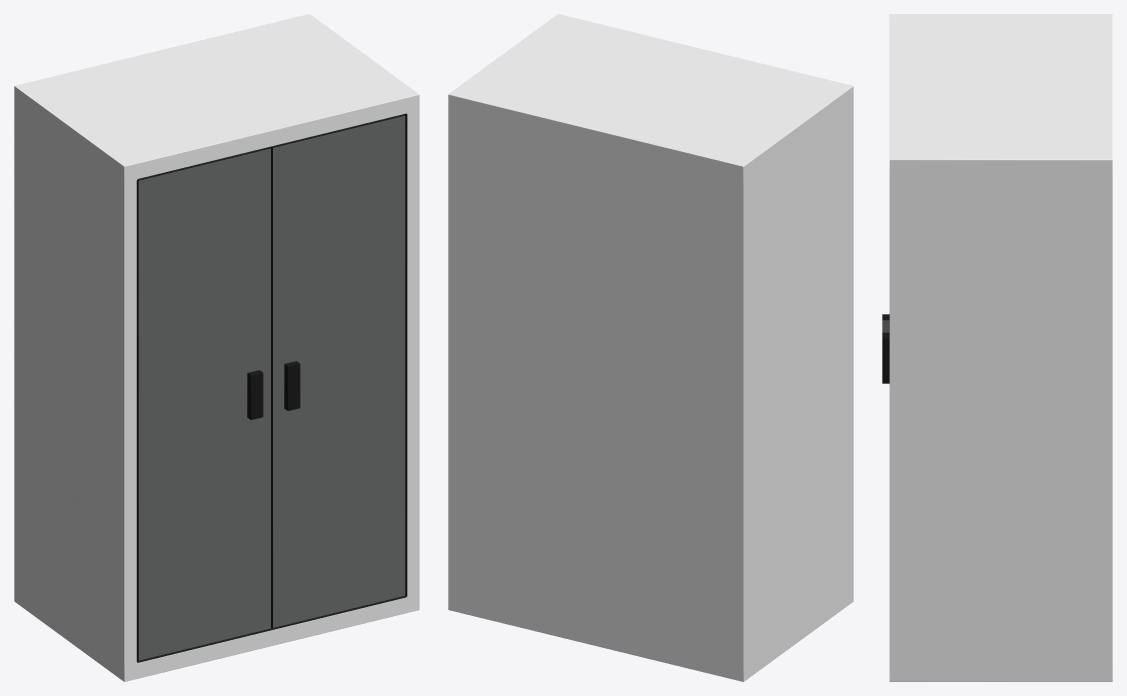
File: StorageCabinet.fbx
3 renders of one model, left to right at view 1: azimuth 30°, elevation 25°; view 2: azimuth 150°, elevation 25°; view 3: azimuth 270°, elevation 25°, orthographic.
Parts seen in each view (by area): view 1: StorageCabinet; view 2: StorageCabinet; view 3: StorageCabinet.
Part boxes in pixels (bbox=[...]): StorageCabinet: bbox=[14, 14, 419, 681]; StorageCabinet: bbox=[448, 14, 853, 681]; StorageCabinet: bbox=[882, 14, 1112, 681].
Size of the model in its own units: 90 by 150 by 60.
1 material, 1 textured.
